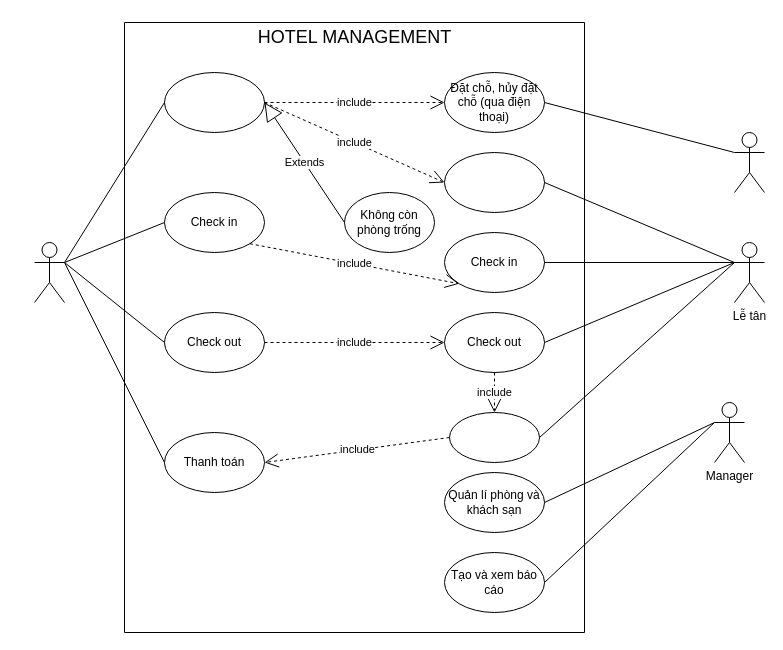
Some shapes in this 783 by 650 pixel diagram are drawn without their labels. The centre of each missing label's shape, as x and y in pixels:
"In bill" belongs at [494,437].
"Khách hàng" belongs at [49,272].
"Seller" belongs at [749,162].
"Đặt chỗ, hủy đặt chỗ" belongs at [214,102].
"Đặt chỗ, hủy đặt chỗ (trực tiếp)" belongs at [494,182].
